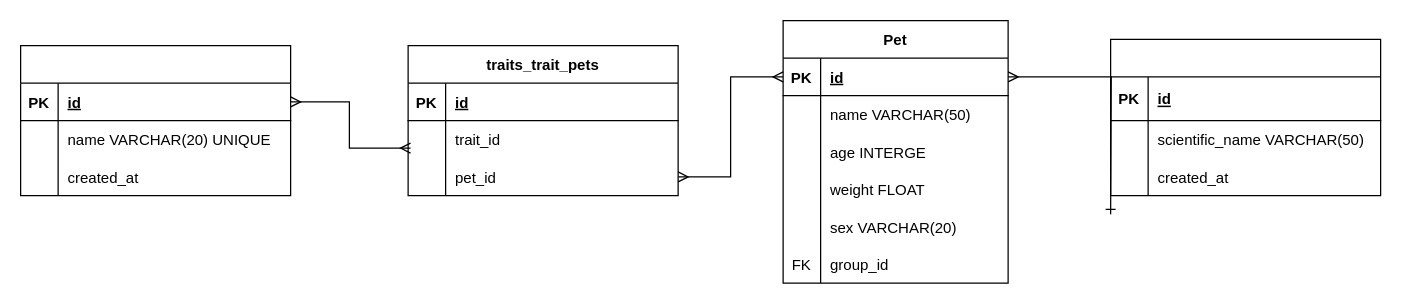
The diagram is 1401 pixels wide and 304 high, and some of its shapes have lost their labels. Here are the shapes that lost their labels. From the top down, the box of each, then its label:
(19, 44, 291, 196): trait
(1109, 38, 1381, 196): Group
